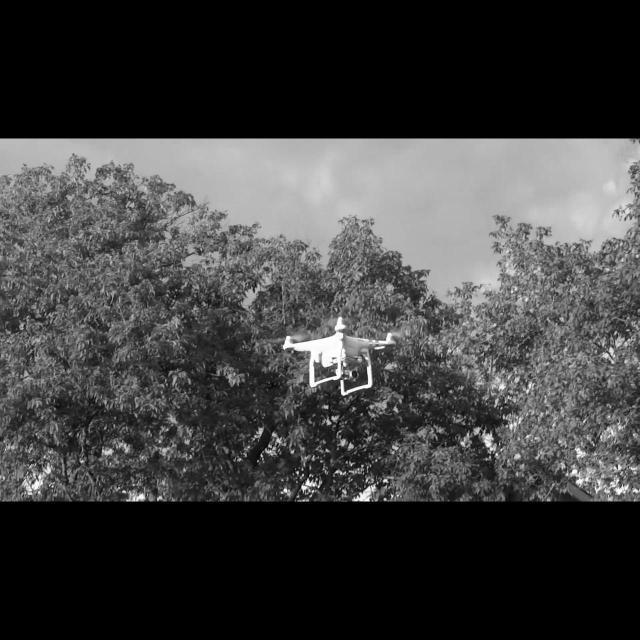Drons: (272, 314, 406, 401)
